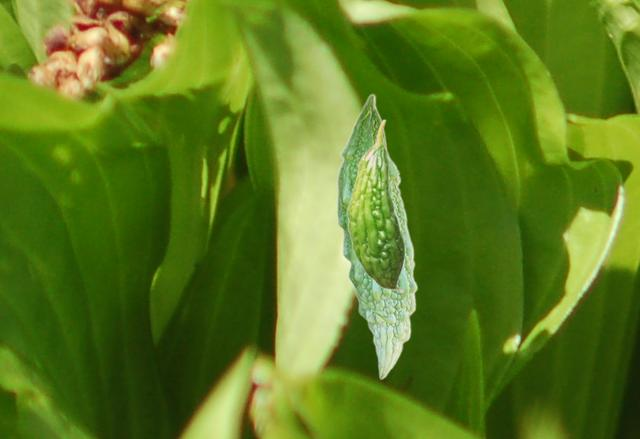ampalaya: (335, 93, 418, 380), (345, 119, 406, 293)
